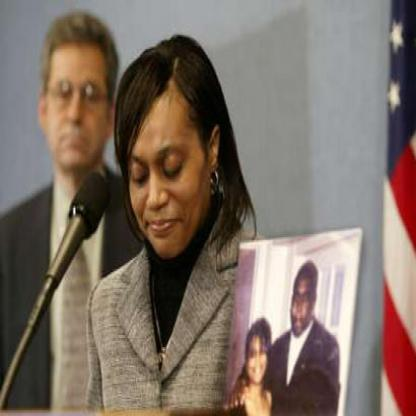face: (123, 64, 211, 262), (47, 18, 113, 175), (292, 265, 315, 338), (246, 329, 271, 387)
